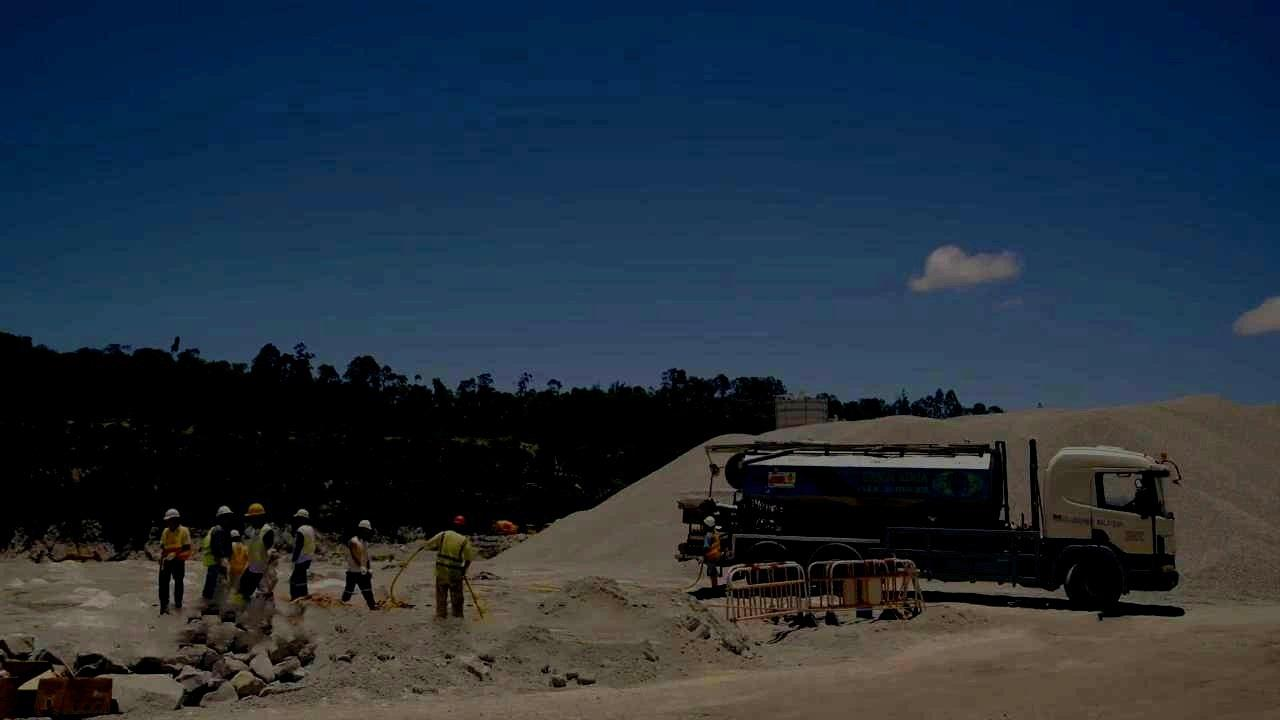helmet: (244, 503, 266, 526), (163, 508, 180, 530), (216, 506, 234, 526), (293, 508, 309, 527), (357, 520, 372, 538), (452, 515, 466, 534), (703, 516, 716, 531), (231, 530, 240, 542)
